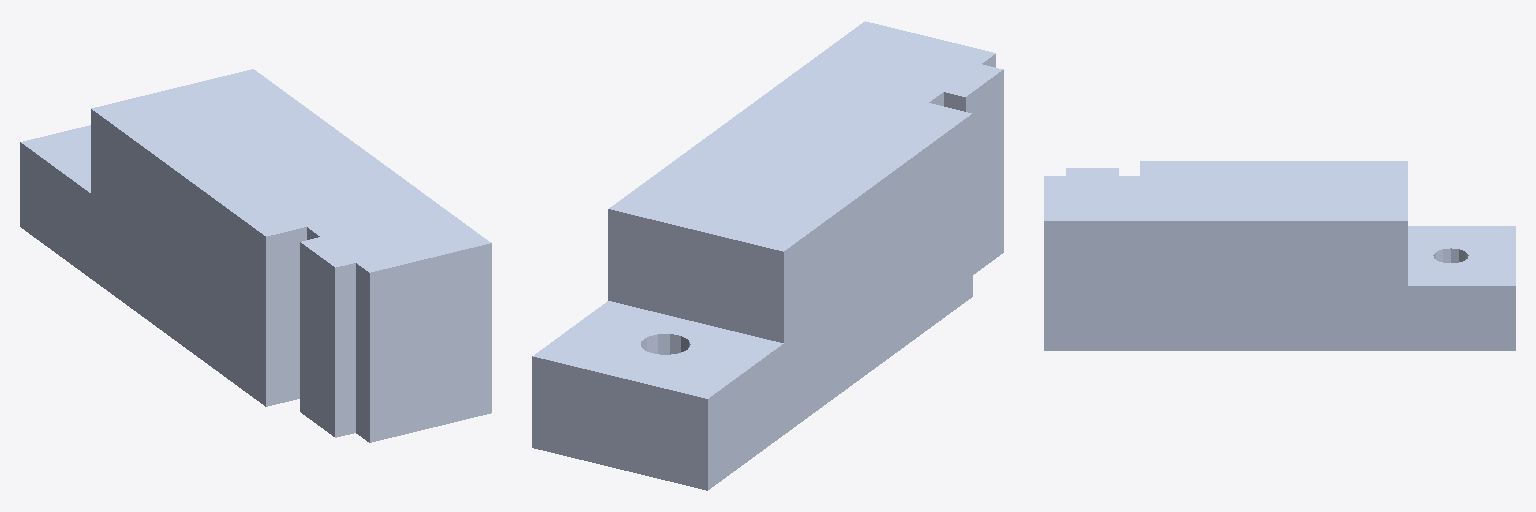
robot.urdf — Arm_link2_simple.SLDPRT:
<robot
  name="Arm_link2_simple.SLDPRT">
  <link
    name="Arm_link2_simple.SLDPRT">
    <inertial>
      <origin
        xyz="0.053478 -0.093662 0.23644"
        rpy="0 0 0" />
      <mass
        value="59.715" />
      <inertia
        ixx="1.9616662001775"
        ixy="-0.0491005071338084"
        ixz="0.00131624037987076"
        iyy="0.105829672288633"
        iyz="-1.9566286660684"
        izz="-0.105829672288633" />
    </inertial>
    <visual>
      <origin
        xyz="1.5707963267949 0 0"
        rpy="0 0 0" />
      <geometry>
        <mesh
          filename="package://Arm_link2_simple.SLDPRT/meshes/Arm_link2_simple.SLDPRT.STL" />
      </geometry>
      <material
        name="">
        <color
          rgba="0.86667 0.9098 1 1" />
      </material>
    </visual>
    <collision>
      <origin
        xyz="0 0 0"
        rpy="1.5707963267949 0 0" />
      <geometry>
        <mesh
          filename="package://Arm_link2_simple.SLDPRT/meshes/Arm_link2_simple.SLDPRT.STL" />
      </geometry>
    </collision>
  </link>
</robot>

--- Render facts (derived) ---
3 views of the same robot in one strip: view 1: azimuth 30°, elevation 25°; view 2: azimuth 150°, elevation 25°; view 3: azimuth 270°, elevation 25° (orthographic).
Robot: Arm_link2_simple.SLDPRT — 1 links, 0 joints (none); root link Arm_link2_simple.SLDPRT; default pose: every joint at zero.
Visible links, largest first — view 1: Arm_link2_simple.SLDPRT; view 2: Arm_link2_simple.SLDPRT; view 3: Arm_link2_simple.SLDPRT.
Link boxes in pixels (box(x1,y1,x2,y2)): Arm_link2_simple.SLDPRT: box(20, 69, 491, 442); Arm_link2_simple.SLDPRT: box(532, 21, 1003, 490); Arm_link2_simple.SLDPRT: box(1044, 161, 1515, 350).
Size in the robot's own frame: 0.2 by 0.6569 by 0.2 metres.
Meshes: 1 distinct files referenced, 1 mesh visuals loaded (1 binary STL).